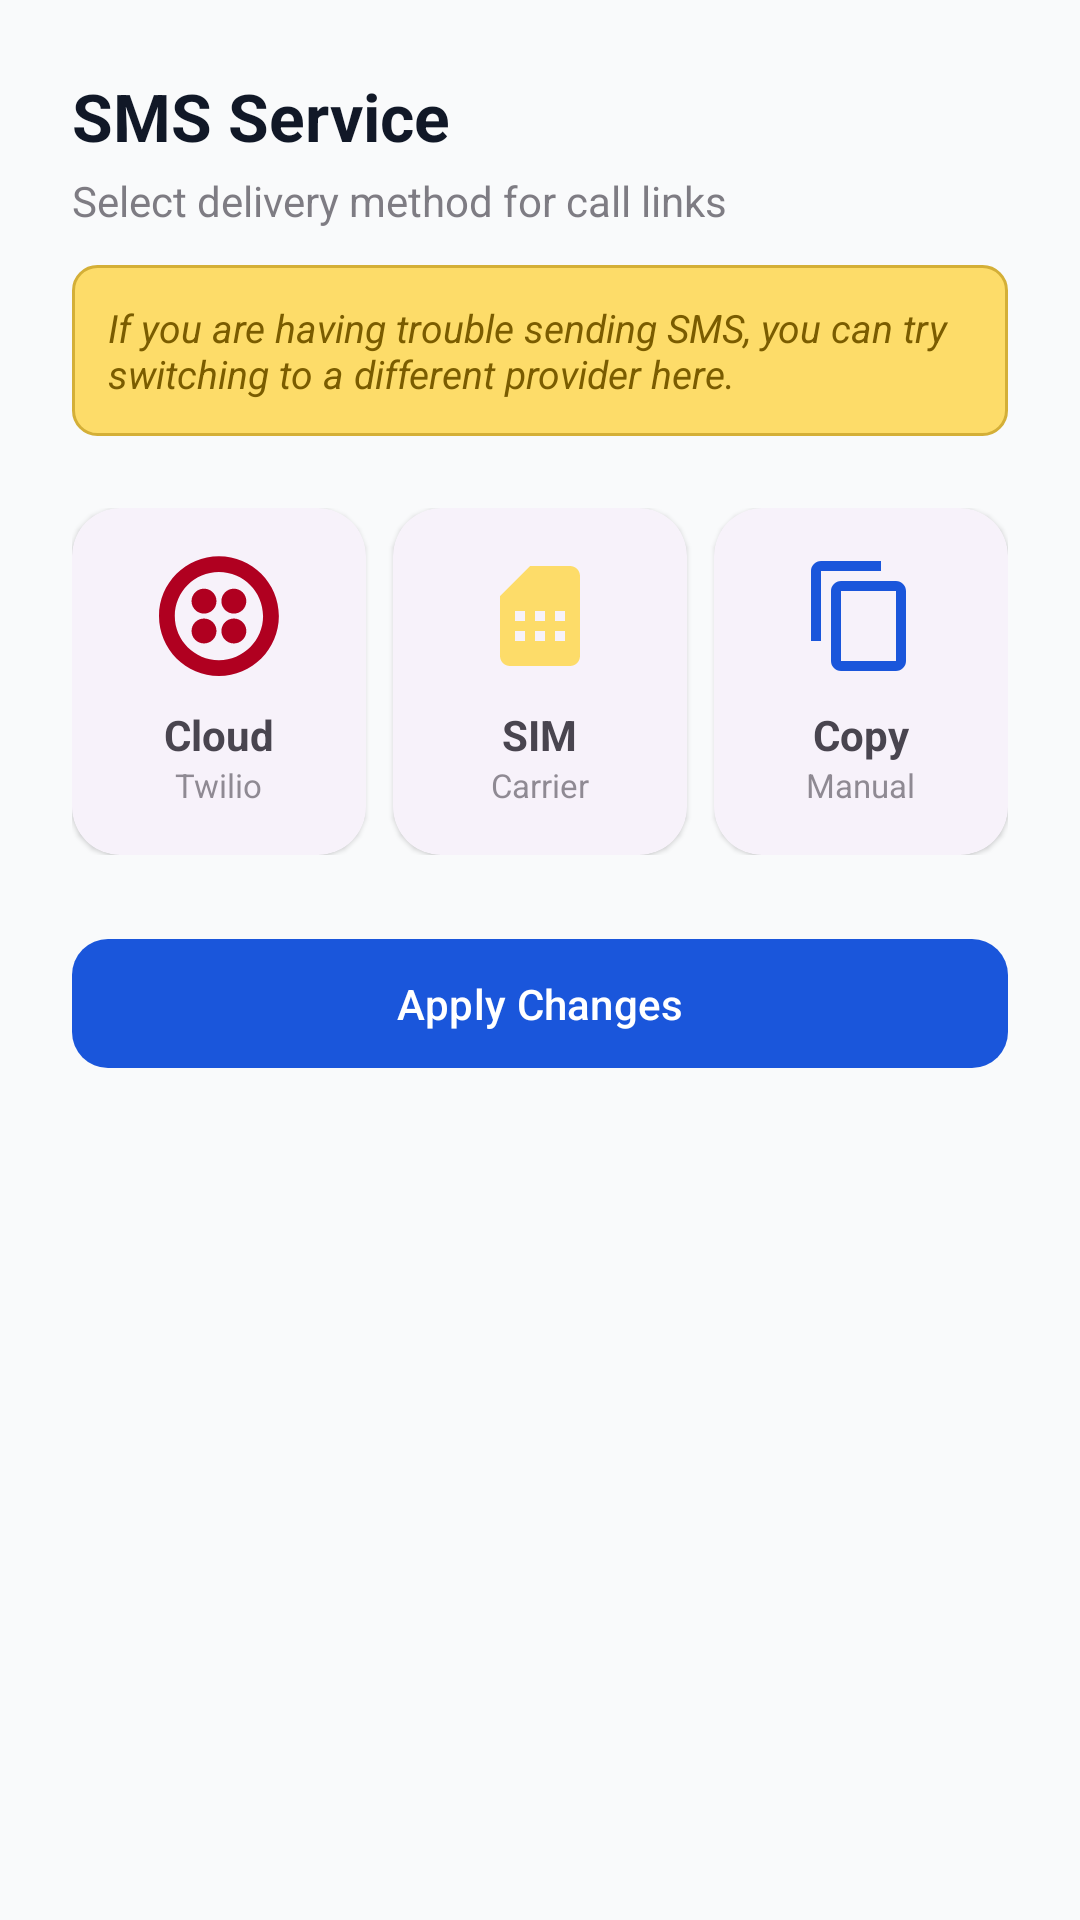

Where icons sit on this 1080×1920 app screen, as (x1, y1, x2, y2):
sim card: (500, 566, 580, 666)
